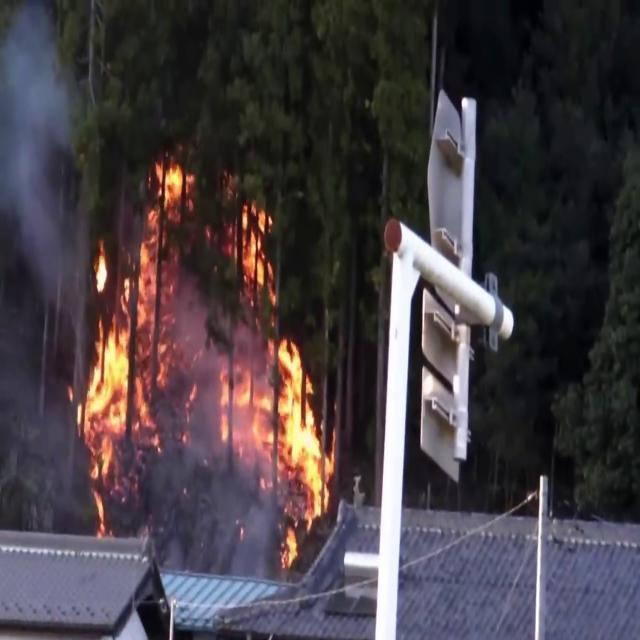Fire: (218, 193, 336, 539), (75, 158, 182, 484)
Smoke: (0, 2, 88, 522)
